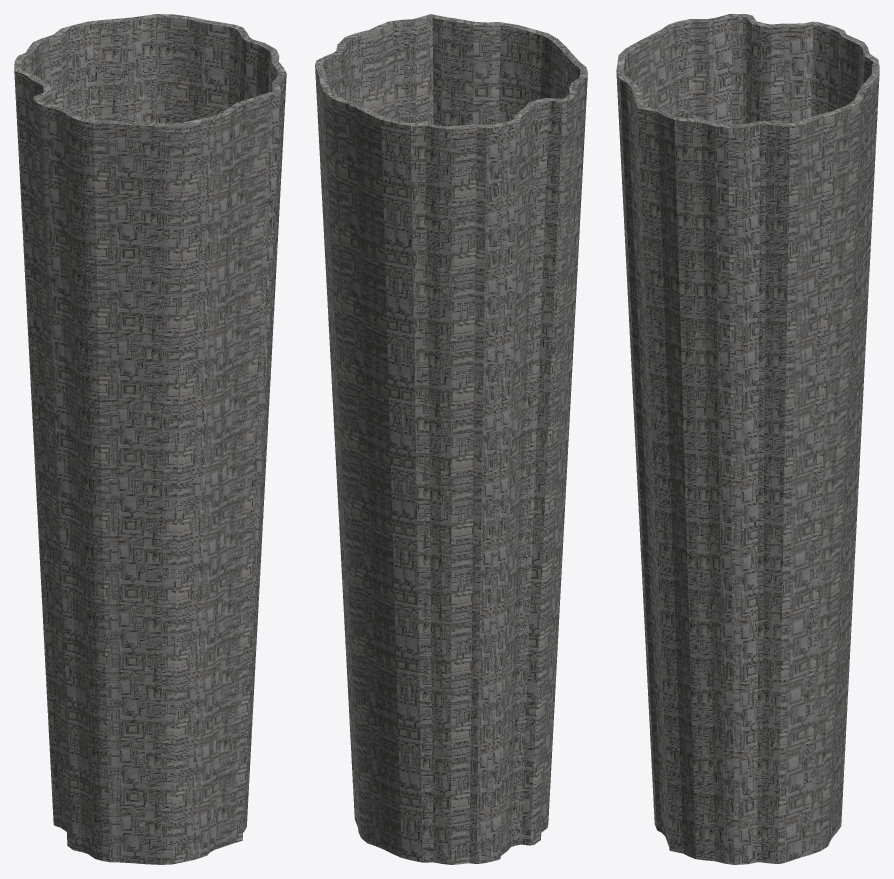
Rendered from Area6_Border 2.fbx.
3 renders of one model, left to right at view 1: azimuth 30°, elevation 25°; view 2: azimuth 150°, elevation 25°; view 3: azimuth 270°, elevation 25°, orthographic.
Parts seen in each view (by area): view 1: Area6_Border_2; view 2: Area6_Border_2; view 3: Area6_Border_2.
Part boxes in pixels (x1,y1,x2,y2): Area6_Border_2: (14,14,286,864); Area6_Border_2: (315,14,587,864); Area6_Border_2: (616,14,879,864).
Size of the model in its own units: 1763 by 5432 by 1720.
Materials: 1 (1 with a texture image).
